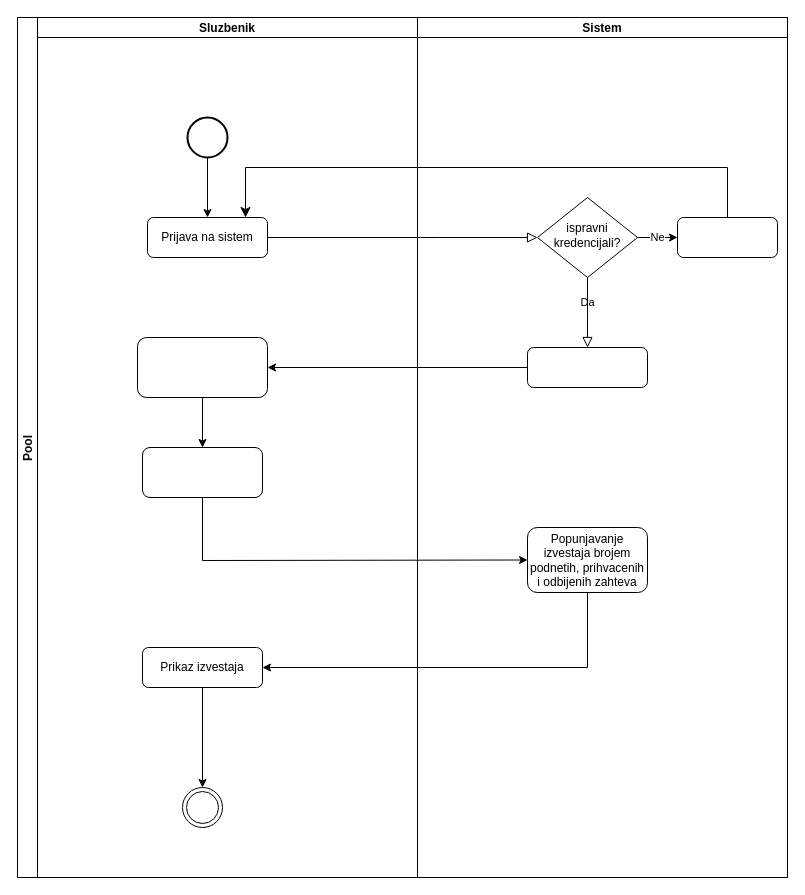
Some shapes in this 805 by 895 pixel diagram are drawn without their labels. The shapes that lost their labels are listed below. From the top down, each one's box as (x1, y1, x2, y2) in pixels, then its label:
(676, 216, 778, 258): Nisu ispravni kredencijali
(136, 336, 268, 398): Biranje opcije generisanja izvestaja
(526, 346, 648, 388): Dobri su kredencijali
(142, 446, 262, 498): Biranje vremenskog perioda za generisanje izvestaja
